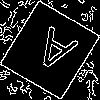A: (25, 25, 79, 83)
